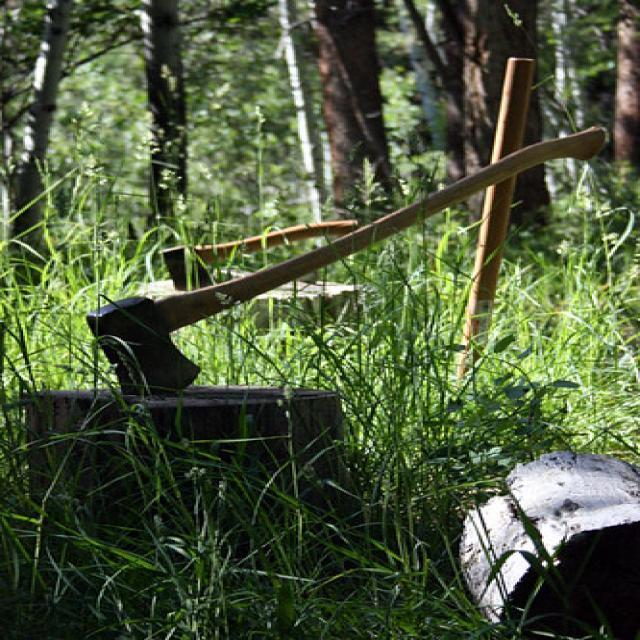Axe: (88, 128, 604, 392), (162, 220, 359, 291)
